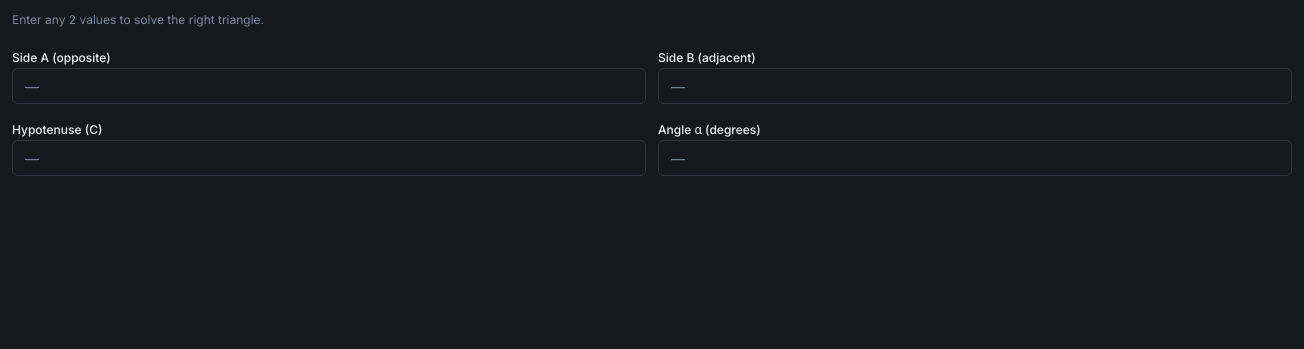
Scenario: TrigCalculator › solves a 3-4-5 right triangle correctly
Type "3" into the number field labelled "Side A (opposite)".
click(329, 86); type("3")  # box [12, 68, 646, 104]
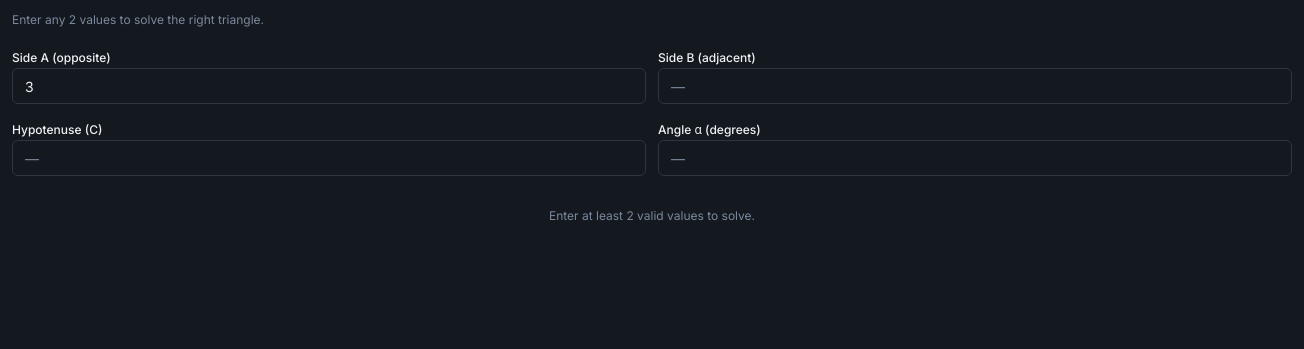
Type "4" into the number field labelled "Side B (adjacent)".
click(975, 86); type("4")  # box [658, 68, 1292, 104]
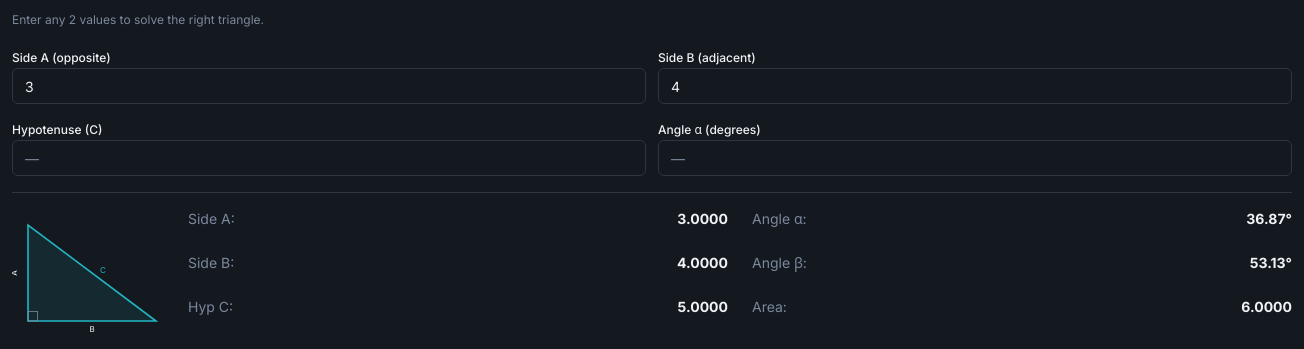
Check: the text "5.0000" is shown, box [678, 298, 728, 315]
Check: the text "36.87°" is shown, box [1246, 210, 1292, 227]
Check: the text "53.13°" is shown, box [1250, 254, 1292, 271]
